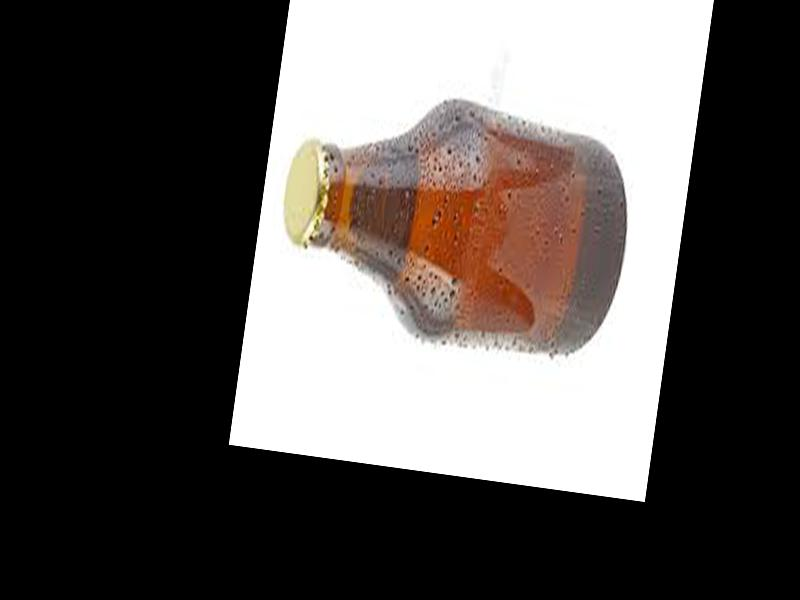Beer: (268, 95, 637, 360)
